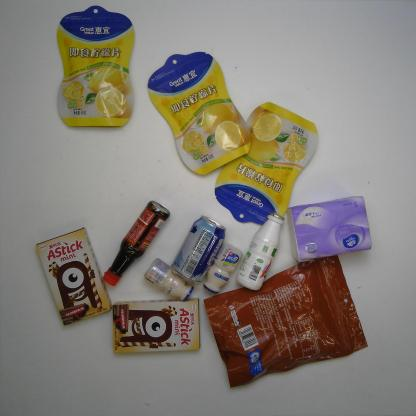Alcohol: (168, 213, 230, 285)
Dessert: (33, 226, 114, 327), (109, 299, 204, 355)
Dried Food: (204, 252, 370, 394)
Dried Fruit: (145, 48, 254, 177), (212, 99, 321, 224), (51, 3, 138, 134)
Milk: (232, 208, 287, 296), (140, 255, 198, 303), (201, 240, 245, 297)
Seasoner: (97, 198, 174, 290)
Tissue: (284, 193, 374, 265)
